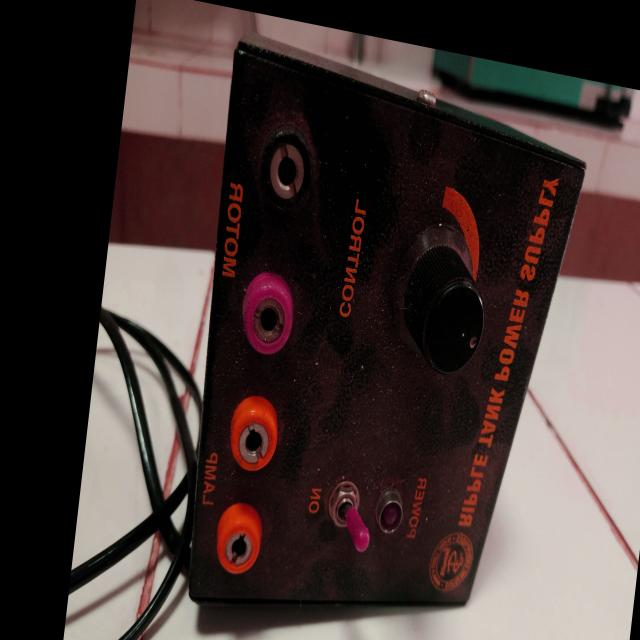Ripple Tank Power Supply: (167, 16, 604, 640)
